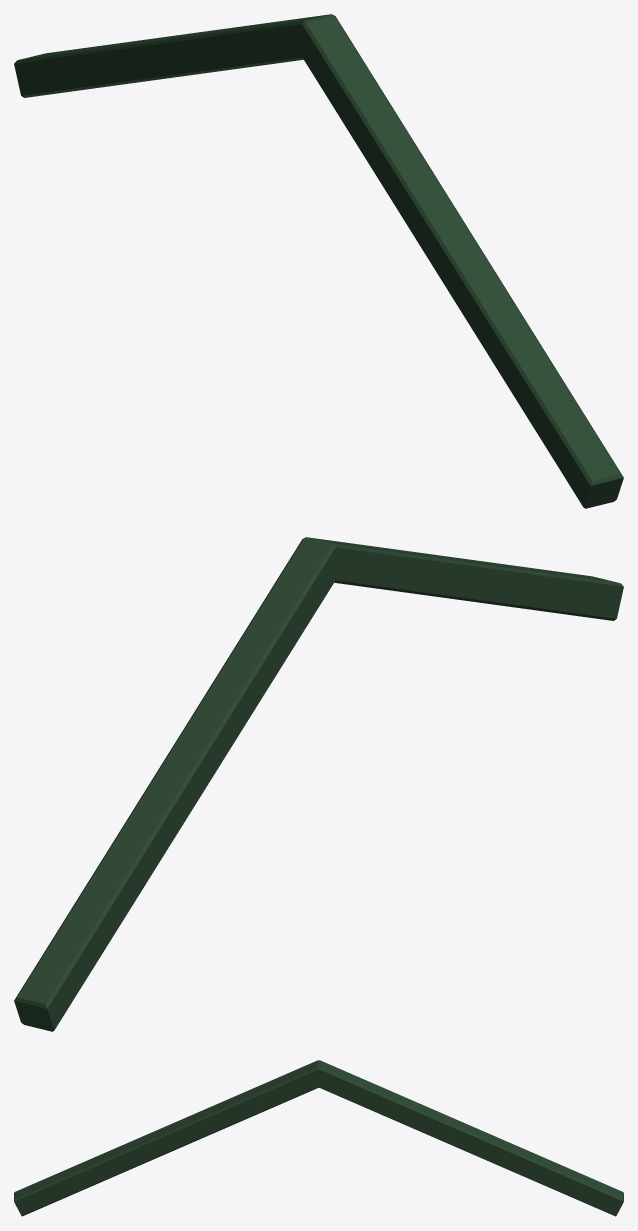
The model's file is gh_triangle_beam.gltf.
3 views of the same model, one above another, from view 1: azimuth 30°, elevation 25°; view 2: azimuth 150°, elevation 25°; view 3: azimuth 270°, elevation 25° (orthographic). The views are drawn at different scales.
Visible parts, largest first — view 1: greenhouse triangle; view 2: greenhouse triangle; view 3: greenhouse triangle.
Boxes of the visible parts, box(x1,y1,x2,y2) form: greenhouse triangle: box(14, 14, 623, 508); greenhouse triangle: box(14, 537, 623, 1031); greenhouse triangle: box(14, 1060, 623, 1216).
Bounding box in the file's own units: 0.2 × 1.61 × 5.99.
